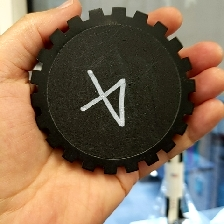gear: (28, 5, 198, 177)
